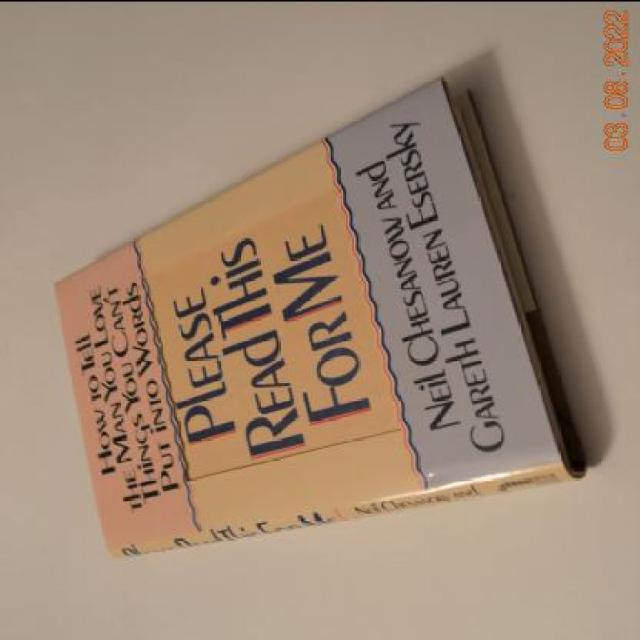book: (19, 73, 606, 599)
